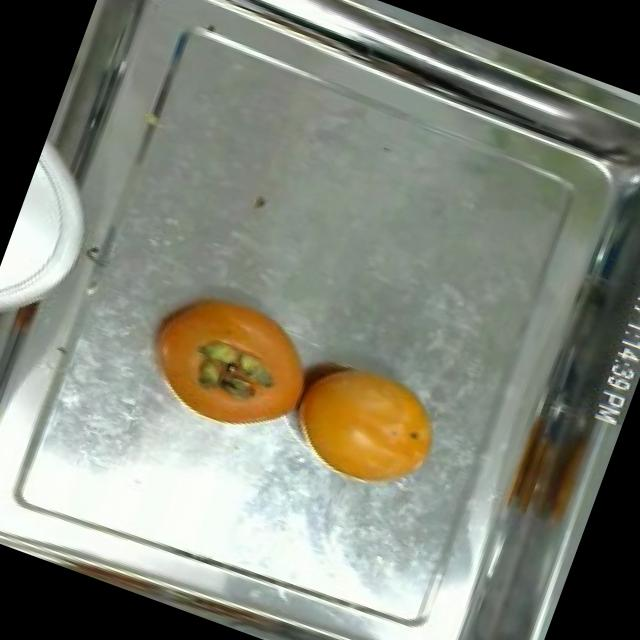Fruit: (118, 262, 337, 460), (268, 340, 462, 510)
